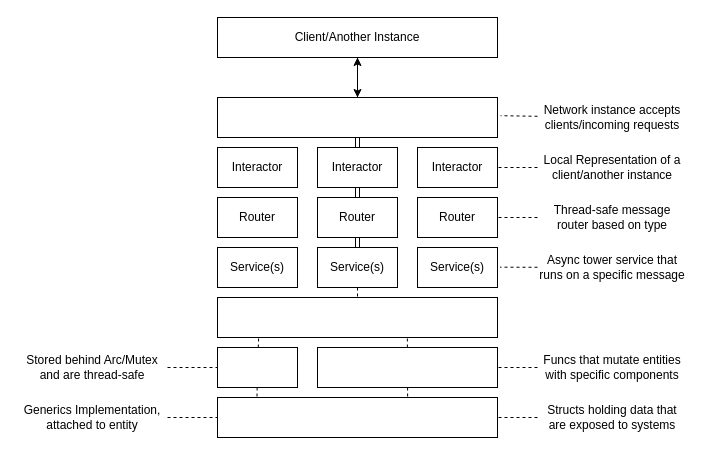
The diagram is 704 pixels wide and 455 high, and some of its shapes have lost their labels. Here are the shapes that lost their labels. From the top down, the centre of each, then its label:
point (357, 117): Connector
point (357, 317): Core ECS (Async + Multi-Threaded)
point (257, 367): Entities
point (407, 367): Systems
point (357, 417): Components
